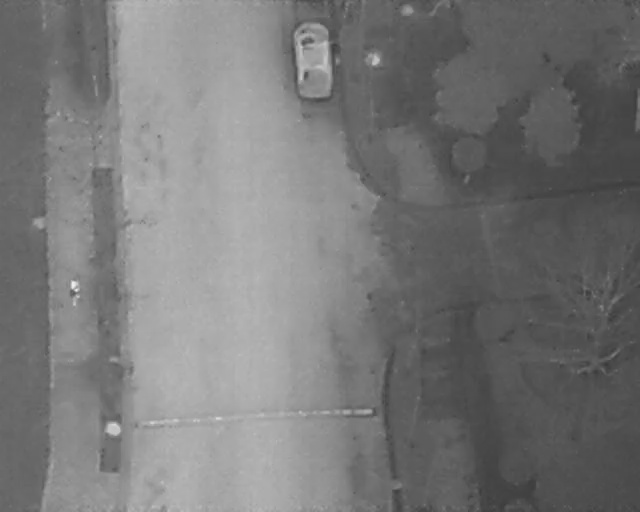Car: (293, 20, 335, 101)
Person: (67, 279, 82, 309)
